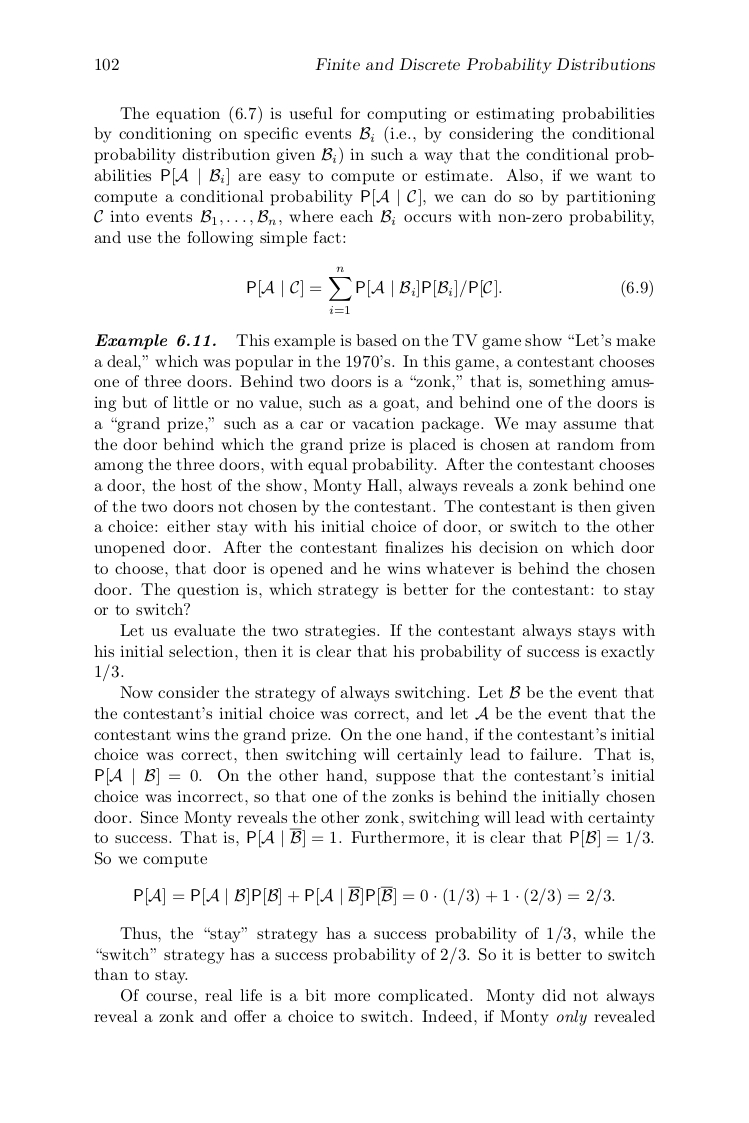formula: (247, 266, 652, 313), (134, 885, 614, 906)
